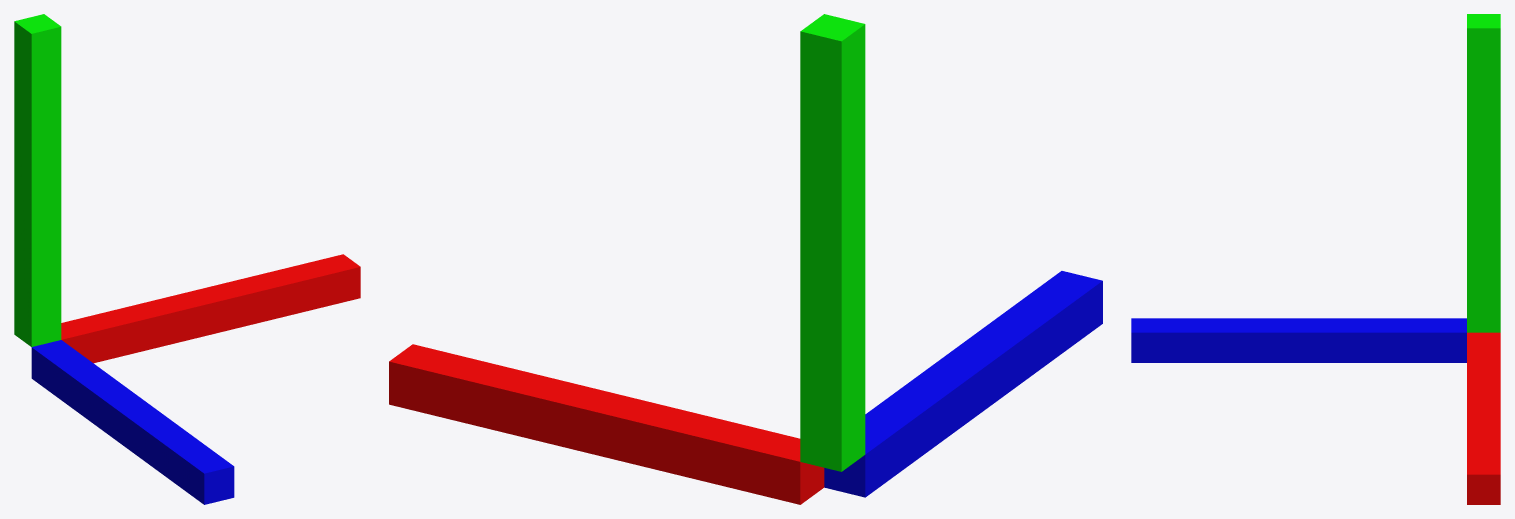
Rendered from axis.glb.
3 views of the same model, side by side, from view 1: azimuth 30°, elevation 25°; view 2: azimuth 150°, elevation 25°; view 3: azimuth 270°, elevation 25° (orthographic). The views are drawn at different scales.
Parts seen in each view (by area): view 1: Y-axis, X-axis, Z-axis; view 2: Y-axis, X-axis, Z-axis; view 3: Z-axis, Y-axis, X-axis.
Boxes of the visible parts, <box> form: Y-axis: <box>14,14,61,346</box>; X-axis: <box>61,254,360,363</box>; Z-axis: <box>31,340,234,504</box>; Y-axis: <box>800,14,865,471</box>; X-axis: <box>389,344,824,504</box>; Z-axis: <box>824,271,1102,497</box>; Z-axis: <box>1131,318,1466,362</box>; Y-axis: <box>1467,14,1500,332</box>; X-axis: <box>1467,332,1500,504</box>.
Size of the model in its own units: 2.2 by 2.2 by 2.2.
